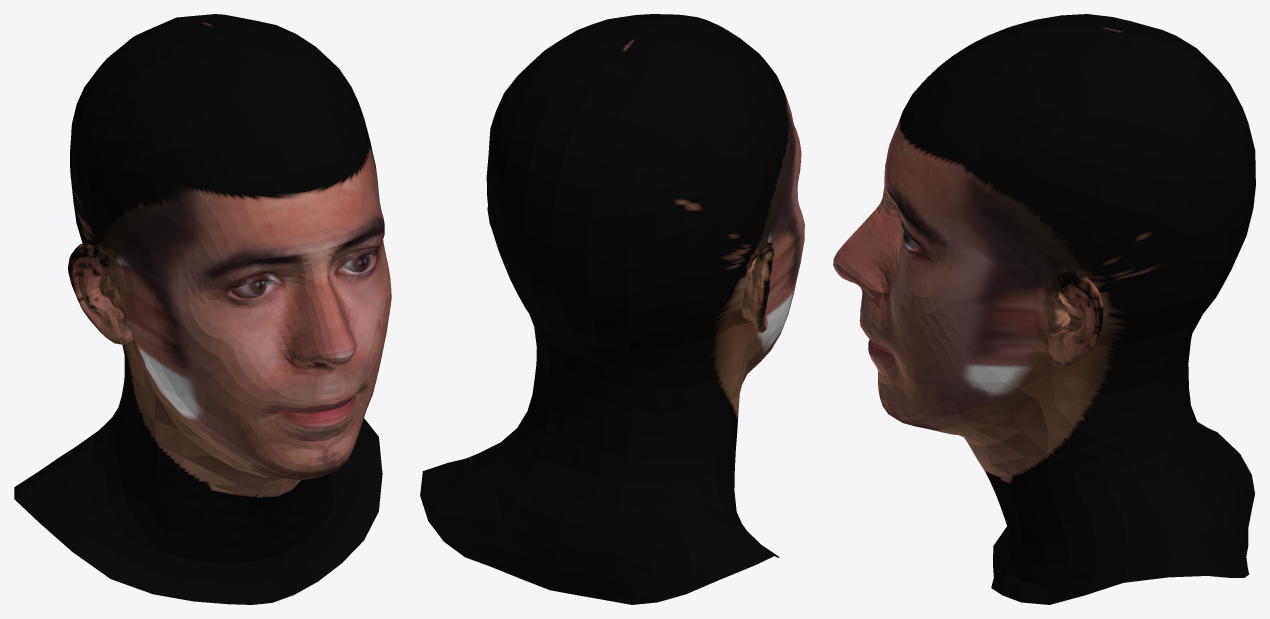
The model's file is mouthFunnel_neutral.obj.
3 views of the same model, side by side, from view 1: azimuth 30°, elevation 25°; view 2: azimuth 150°, elevation 25°; view 3: azimuth 270°, elevation 25° (orthographic). The views are drawn at different scales.
Bounding box in the file's own units: 0.2149 × 0.3261 × 0.2281.
Materials: 1 (1 with a texture image).
